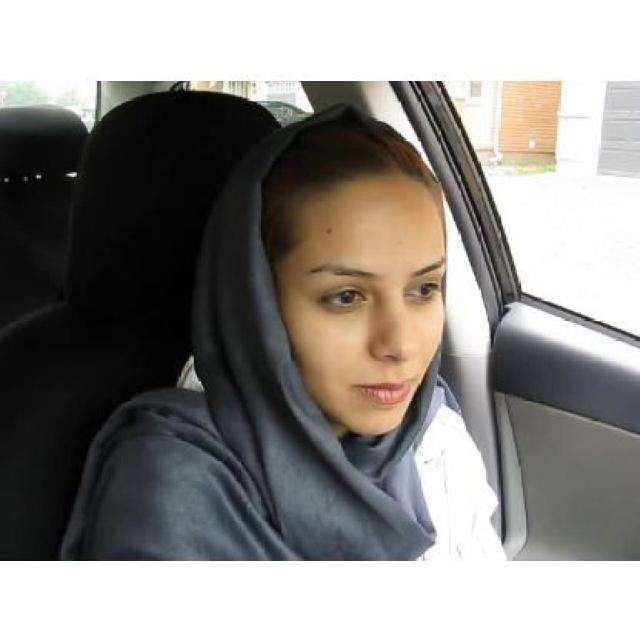attentif: (256, 101, 447, 437)
